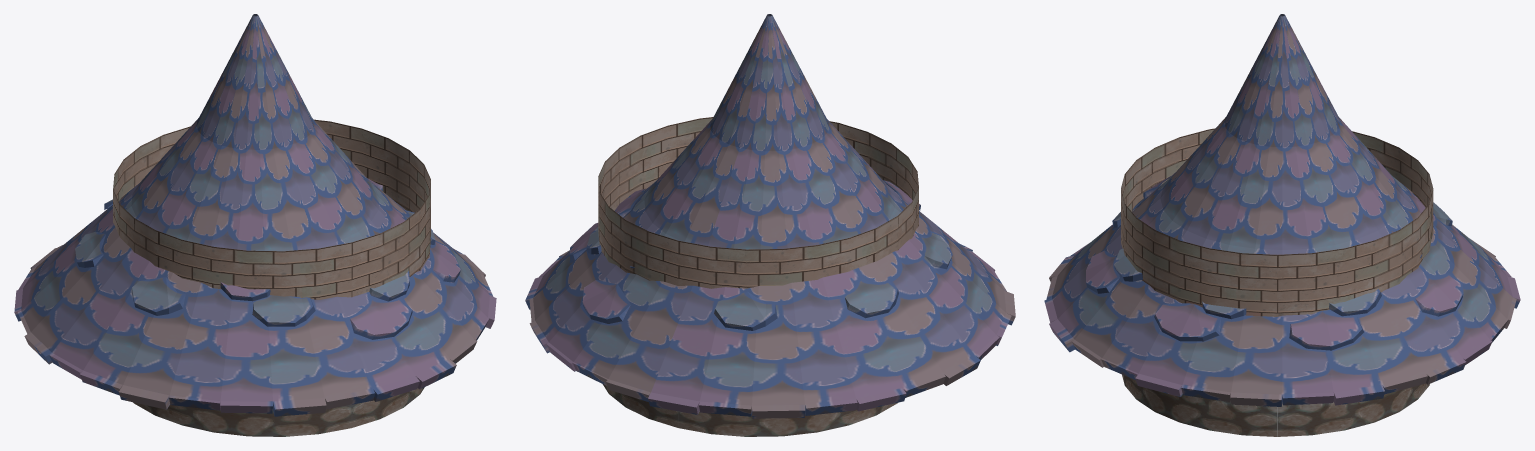
The model's file is Torre_Muralha.fbx.
3 renders of one model, left to right at view 1: azimuth 30°, elevation 25°; view 2: azimuth 150°, elevation 25°; view 3: azimuth 270°, elevation 25°, orthographic. The views are drawn at different scales.
Visible parts, largest first — view 1: Telhado_Torre, Torre, Base_Torre; view 2: Telhado_Torre, Torre, Base_Torre; view 3: Telhado_Torre, Torre, Base_Torre.
Boxes of the visible parts, bbox=[...] form: Telhado_Torre: bbox=[14, 14, 496, 416]; Torre: bbox=[113, 119, 430, 299]; Base_Torre: bbox=[133, 387, 424, 436]; Telhado_Torre: bbox=[525, 14, 1015, 418]; Torre: bbox=[598, 117, 918, 288]; Base_Torre: bbox=[602, 384, 897, 436]; Telhado_Torre: bbox=[1044, 14, 1520, 406]; Torre: bbox=[1121, 128, 1433, 316]; Base_Torre: bbox=[1122, 374, 1429, 436].
Bounding box in the file's own units: 994 × 807 × 998.
